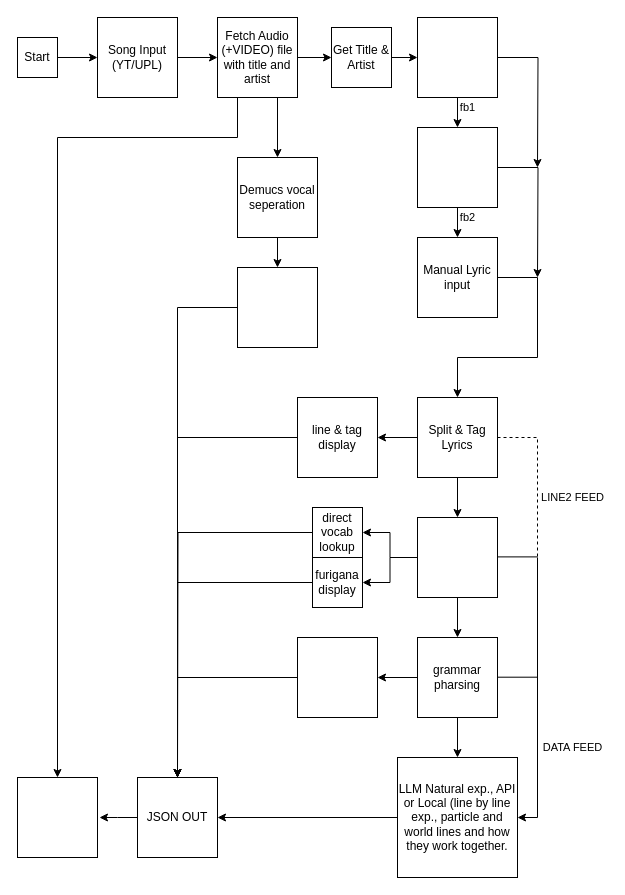
Some shapes in this 625 by 895 pixel diagram are drawn without their labels. Here are the shapes that lost their labels. From the top down, the centre of each, then its label:
At point 457,57: "Genius Lyric API for lyrics".
At point 457,167: "Vocal Sep (demucs) AI Transcription".
At point 277,307: "ASR recognition for timestamp".
At point 457,557: "dict, grammar lookup".
At point 337,677: "Simple Info Out".
At point 57,817: "ALL DATA OUT".
